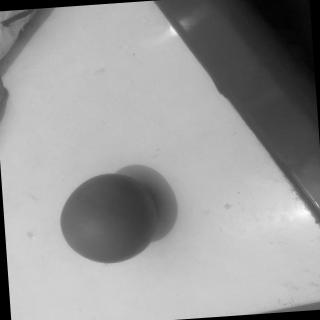Telur: (54, 170, 165, 269)
